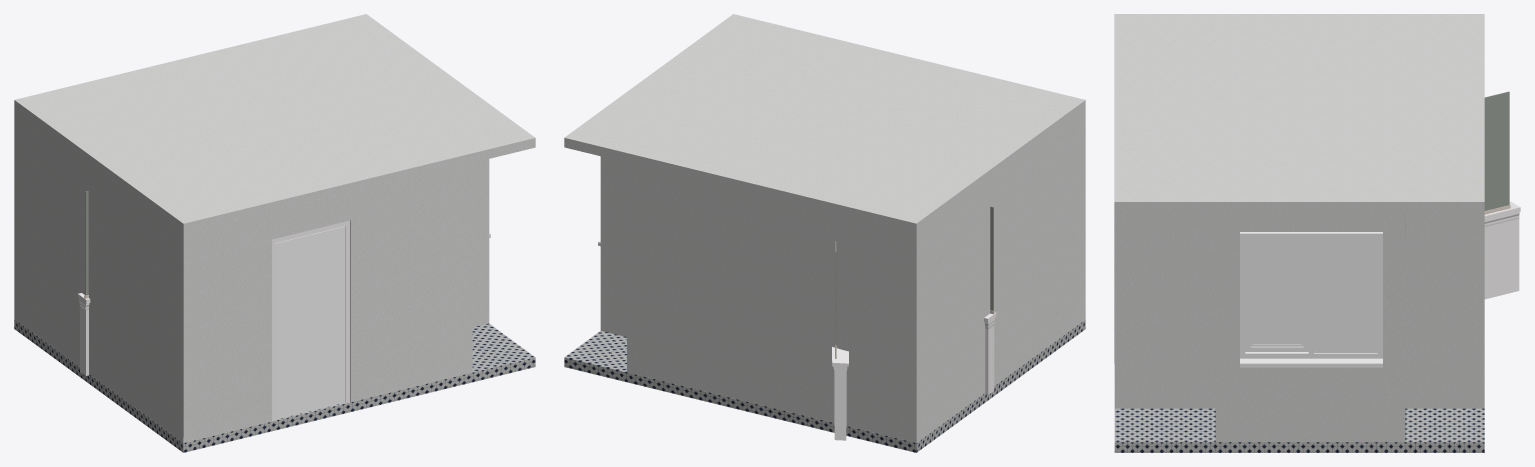
Rendered from FloorPlan423_physics.fbx.
3 renders of one model, left to right at view 1: azimuth 30°, elevation 25°; view 2: azimuth 150°, elevation 25°; view 3: azimuth 270°, elevation 25°, orthographic. The views are drawn at different scales.
Parts seen in each view (by area): view 1: FP423:Walls, FP423:Ceiling, FP423:Door.019, FP423:Floor, FP423:DoorFrame.019, FP423:polySurface372; view 2: FP423:Walls, FP423:Ceiling, FP423:Floor, FP423:polySurface372, FP423:polySurface370; view 3: FP423:Ceiling, FP423:Walls, polySurface105, FP423:Floor, FP423:polySurface109, FP423:polySurface372, FP423:polySurface370.
Part boxes in pixels (box(x1,y1,x2,y2)): FP423:Walls: box(14, 109, 489, 442); FP423:Ceiling: box(14, 14, 535, 233); FP423:Door.019: box(275, 226, 345, 419); FP423:Floor: box(14, 319, 535, 452); FP423:DoorFrame.019: box(272, 220, 349, 420); FP423:polySurface372: box(78, 293, 90, 375); FP423:Walls: box(600, 110, 1085, 442); FP423:Ceiling: box(564, 14, 1085, 233); FP423:Floor: box(564, 320, 1085, 452); FP423:polySurface372: box(832, 310, 996, 440); FP423:polySurface370: box(835, 206, 993, 355); FP423:Ceiling: box(1114, 14, 1484, 212); FP423:Walls: box(1114, 212, 1484, 442); polySurface105: box(1252, 239, 1375, 350); FP423:Floor: box(1114, 408, 1484, 452); FP423:polySurface109: box(1240, 232, 1382, 367); FP423:polySurface372: box(1484, 201, 1520, 299); FP423:polySurface370: box(1484, 91, 1509, 210).
Bounding box in the file's own units: 440 × 261 × 383.
